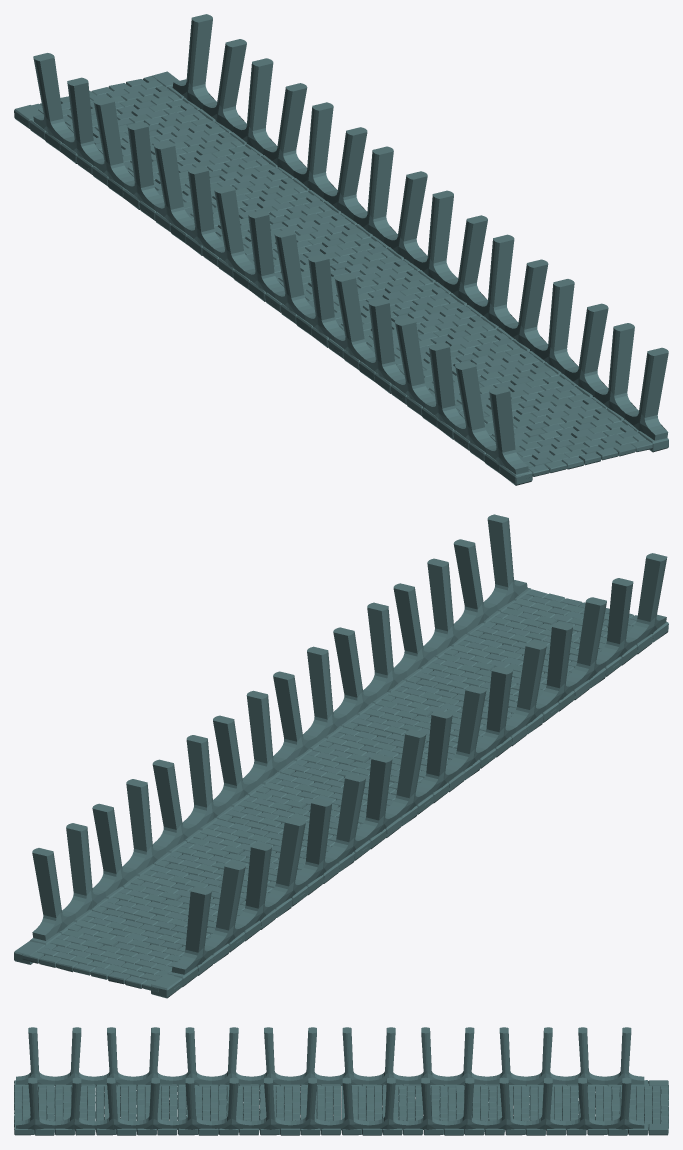
File: desert_capitol_bridge.fbx
The picture shows the model from 3 angles, top to bottom: view 1: azimuth 30°, elevation 25°; view 2: azimuth 150°, elevation 25°; view 3: azimuth 270°, elevation 25°; orthographic projection. The views are drawn at different scales.
Visible parts, largest first — view 1: bridge; view 2: bridge; view 3: bridge.
Boxes of the visible parts, x1=… form: bridge: x1=14, y1=14, x2=668, y2=485; bridge: x1=14, y1=514, x2=668, y2=998; bridge: x1=14, y1=1027, x2=668, y2=1135.
Bounding box in the file's own units: 1642 × 763 × 8088.
